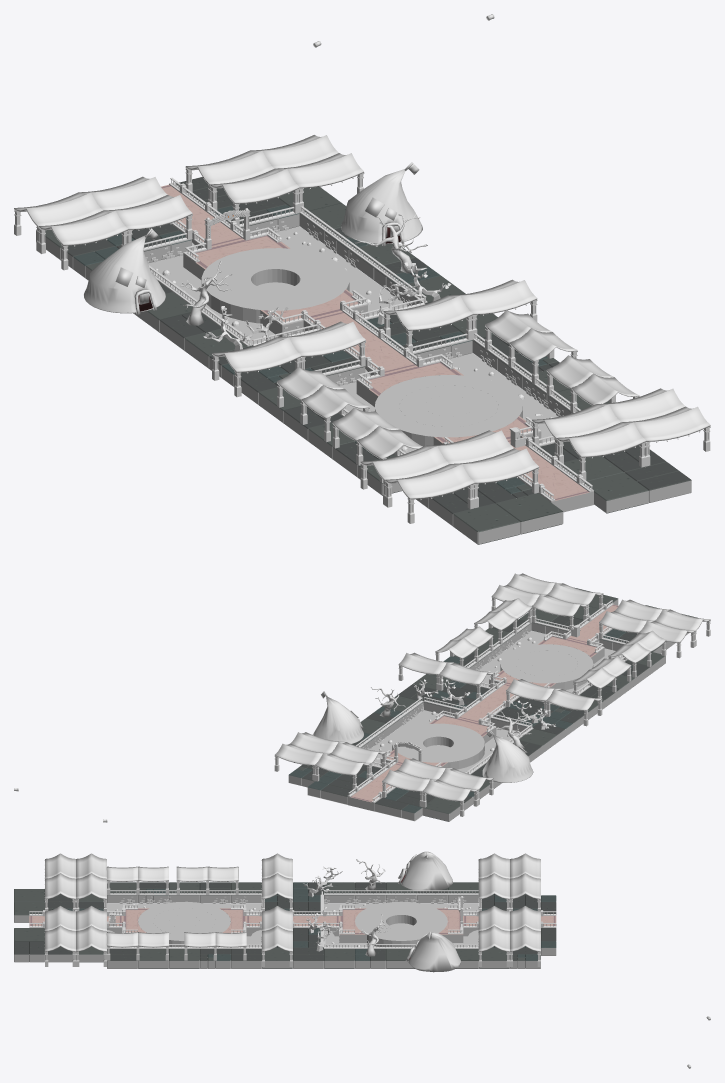
Rendered from lvl10_world1.fbx.
The picture shows the model from 3 angles, top to bottom: view 1: azimuth 30°, elevation 25°; view 2: azimuth 150°, elevation 25°; view 3: azimuth 270°, elevation 25°; orthographic projection. The views are drawn at different scales.
Visible parts, largest first — view 1: tent yellow.002, Cube.2013, tent.004, Plane.121, Cube.2023, Cylinder.016, Cylinder.023, Circle.009, Cylinder.033, Cylinder.025, Cube.1526, Cube.1955 (+6 smaller); view 2: tent yellow.002, Cube.2013, tent.004, Plane.121, Cube.2023, Cylinder.016, Cylinder.023, Circle.009, Cylinder.033, Cylinder.025, Cube.1541, Cube.1955 (+3 smaller); view 3: Cube.2013, tent yellow.002, tent.004, Cube.2023, Plane.121, Cylinder.016, Cylinder.023, Circle.009, Cylinder.033, Cylinder.025, Cube.1932, Cube.1955 (+3 smaller).
Boxes of the visible parts, <box> form: tent yellow.002: <box>14,135,710,523</box>; Cube.2013: <box>36,177,691,544</box>; tent.004: <box>83,162,422,314</box>; Plane.121: <box>148,226,594,504</box>; Cube.2023: <box>143,206,580,455</box>; Cylinder.016: <box>201,248,349,323</box>; Cylinder.023: <box>375,375,522,446</box>; Circle.009: <box>181,214,451,350</box>; Cylinder.033: <box>226,258,324,300</box>; Cylinder.025: <box>399,385,498,426</box>; Cube.1526: <box>507,439,593,512</box>; Cube.1955: <box>303,311,416,375</box>; tent yellow.002: <box>274,573,710,816</box>; Cube.2013: <box>288,587,697,821</box>; tent.004: <box>312,691,533,782</box>; Plane.121: <box>307,630,622,821</box>; Cube.2023: <box>356,618,628,774</box>; Cylinder.016: <box>392,723,484,769</box>; Cylinder.023: <box>500,644,593,690</box>; Circle.009: <box>371,679,555,748</box>; Cylinder.033: <box>407,730,469,756</box>; Cylinder.025: <box>516,651,577,676</box>; Cube.1541: <box>347,763,401,811</box>; Cube.1955: <box>459,684,519,723</box>; Cube.2013: <box>14,882,556,968</box>; tent yellow.002: <box>45,853,540,966</box>; tent.004: <box>398,851,460,972</box>; Cube.2023: <box>104,890,481,948</box>; Plane.121: <box>107,903,478,946</box>; Cylinder.016: <box>355,901,447,946</box>; Cylinder.023: <box>138,901,230,946</box>; Circle.009: <box>303,859,389,956</box>; Cylinder.033: <box>370,908,432,934</box>; Cylinder.025: <box>153,908,215,934</box>; Cube.1932: <box>119,896,478,946</box>; Cube.1955: <box>246,916,339,936</box>.
Size of the model in its own units: 28651 by 3735 by 44978.
